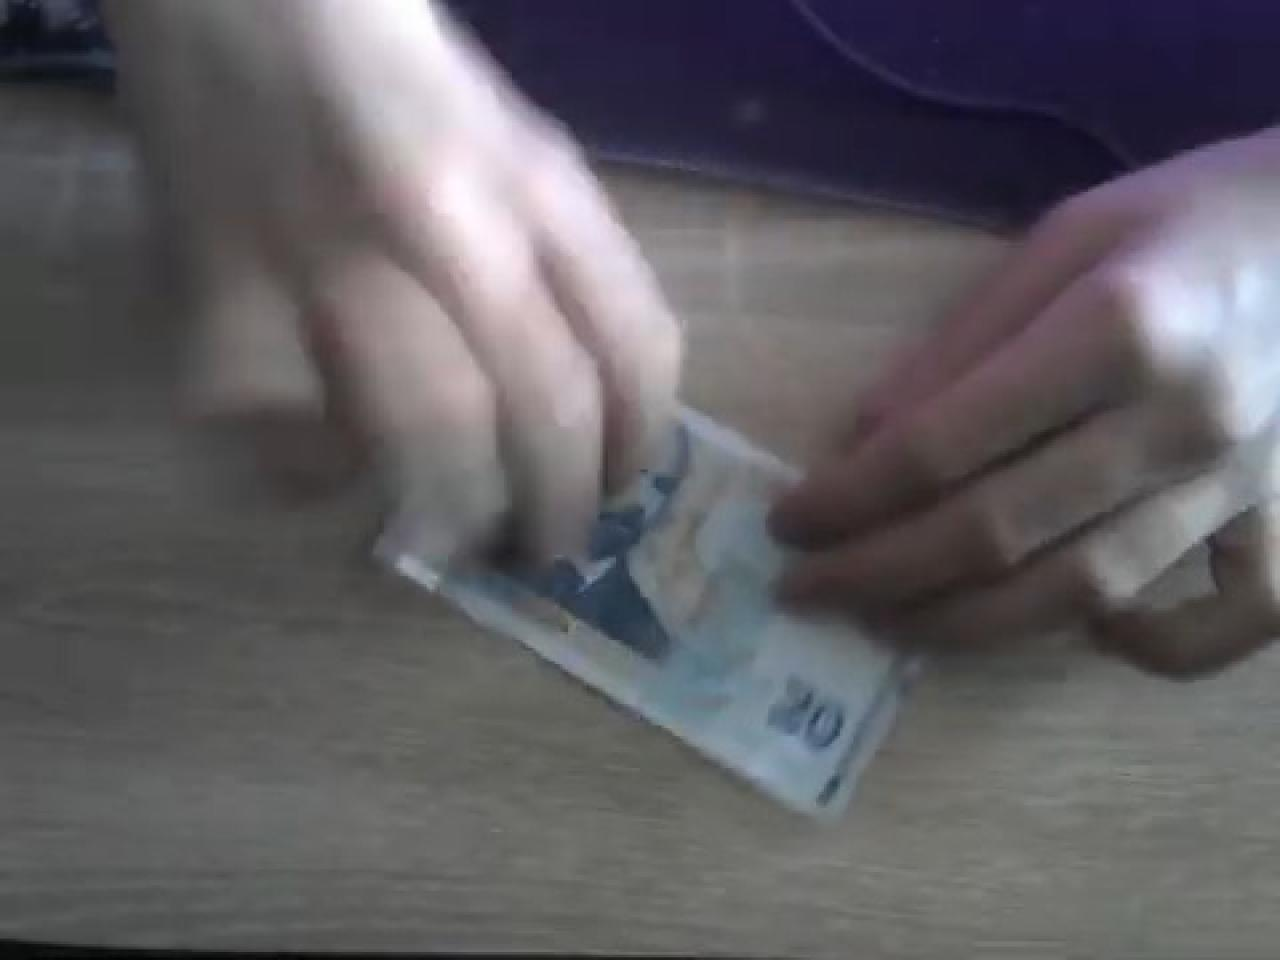20leva: (389, 394, 920, 824)
